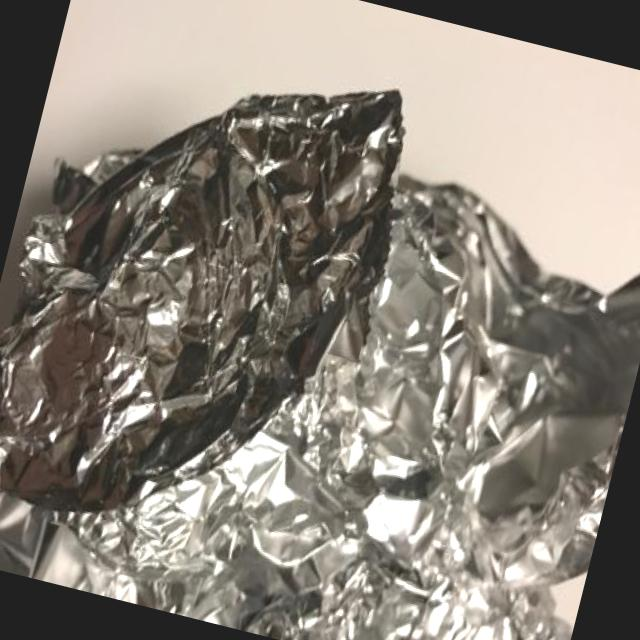nhom: (0, 92, 640, 640)
